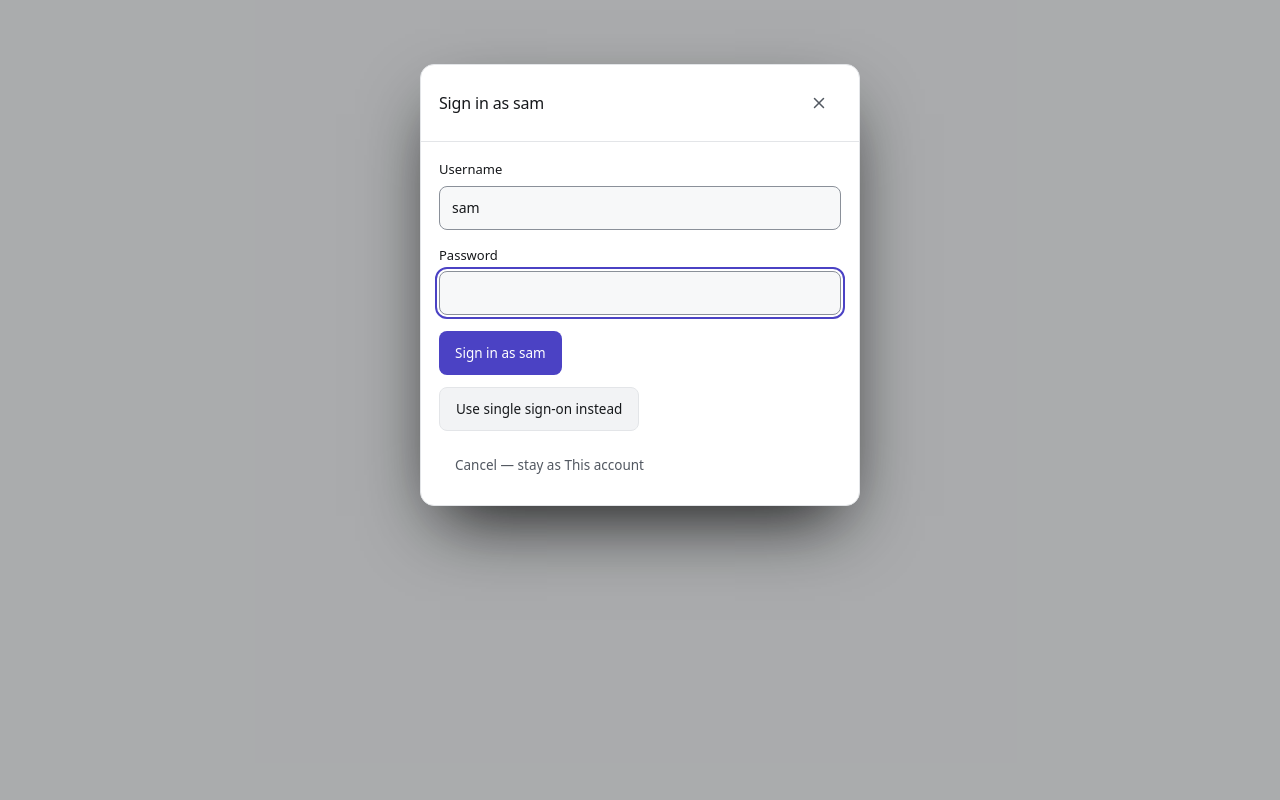
Test case: the switch is an ordinary sign-in, and its outcome belongs to the flow (D-8c-02) › a refusal keeps the dialog with the outgoing account untouched, shows the message once, and is not left for a neutral form
Type "correct-horse-battery-9271" into the password field labelled "Password" at (640, 293), box [439,271,841,315]
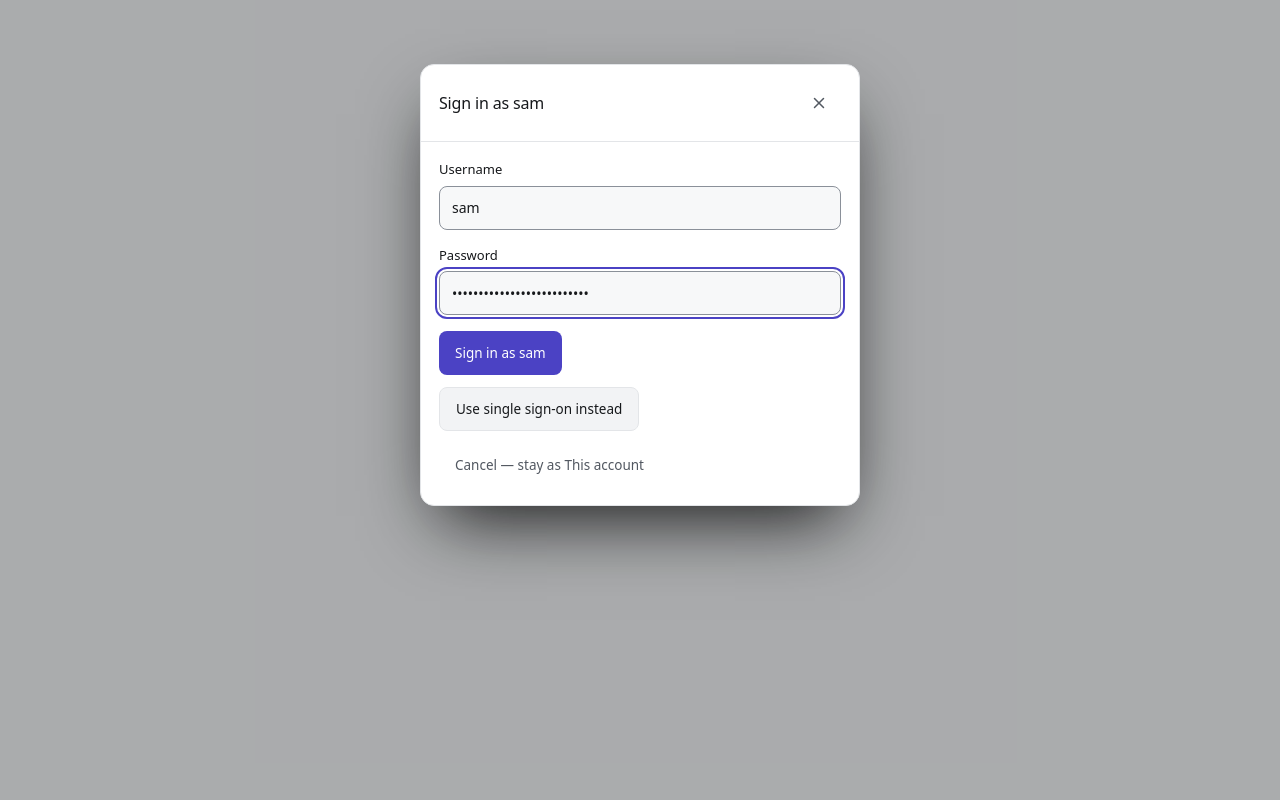
Click the button "Sign in as sam" at (500, 353), box [439,331,562,375]
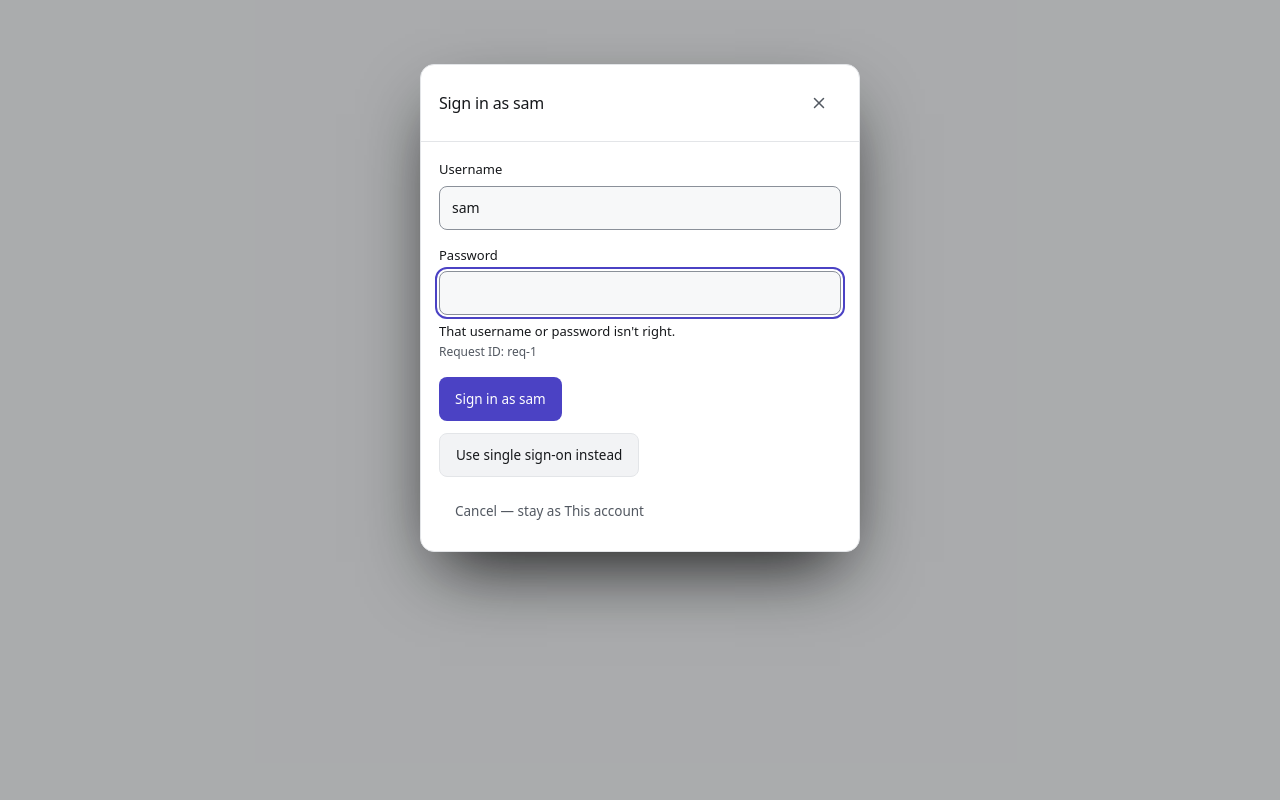
Check: the text "That username or password isn't right." is shown, box [439,322,675,340]
